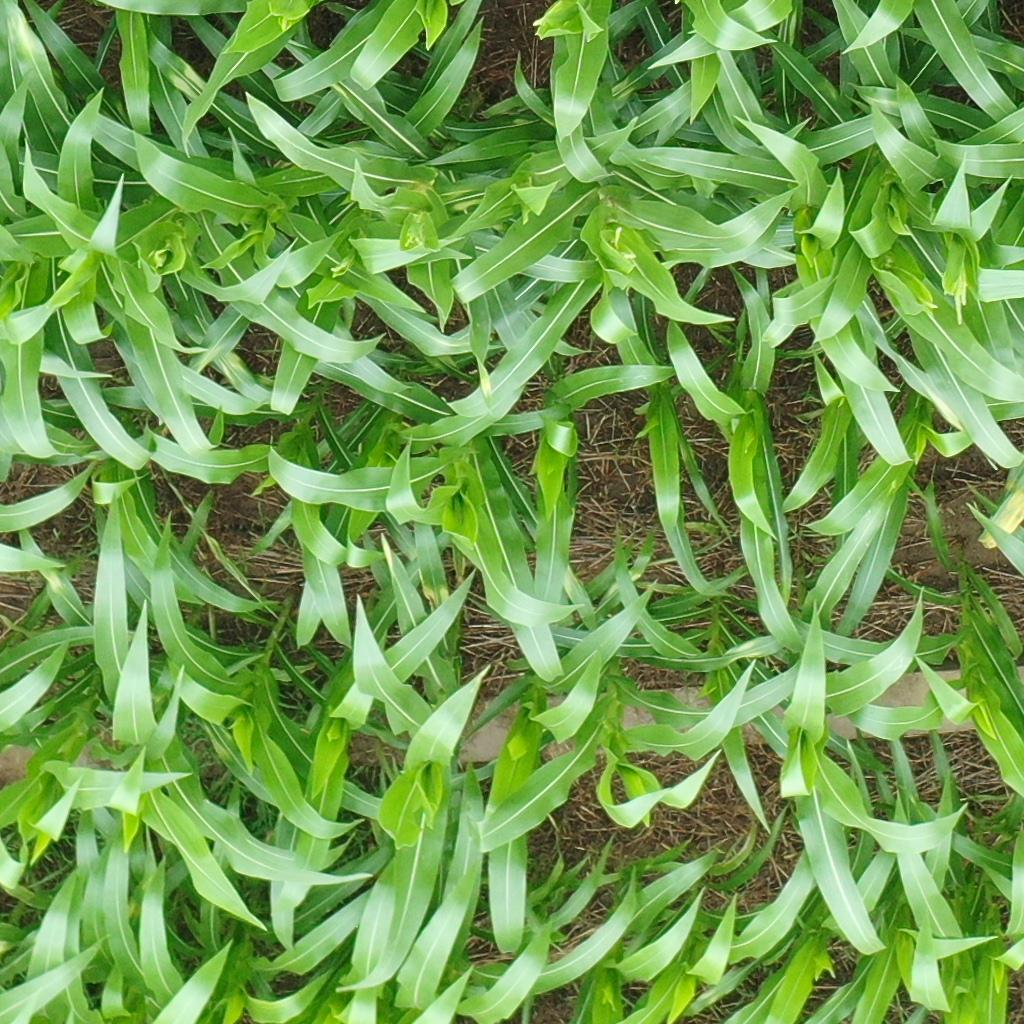Tassel: (943, 250, 978, 325), (399, 204, 440, 254)
